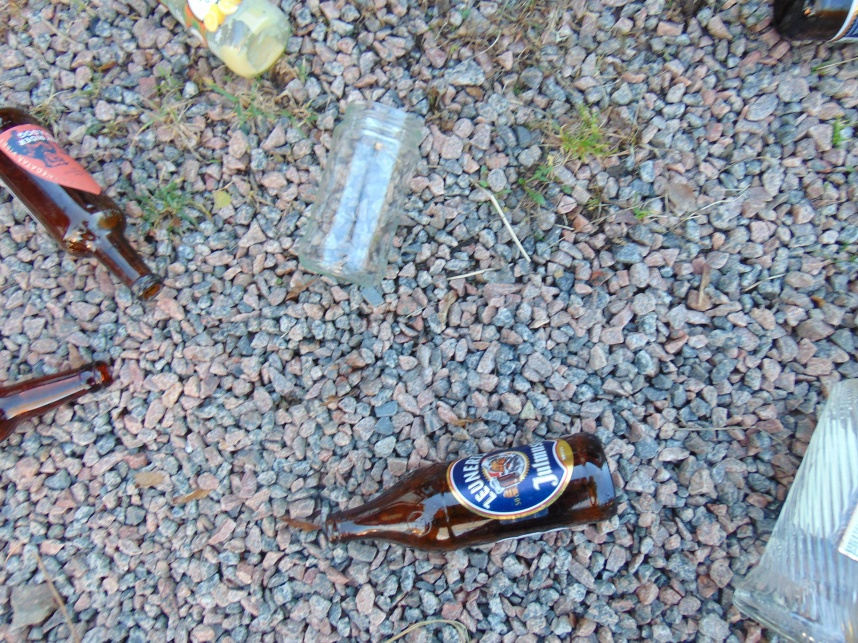glass_bottle: (327, 434, 621, 557), (733, 378, 858, 643), (1, 107, 164, 301), (298, 101, 425, 286), (158, 1, 290, 76), (1, 359, 113, 439), (771, 1, 858, 41)
